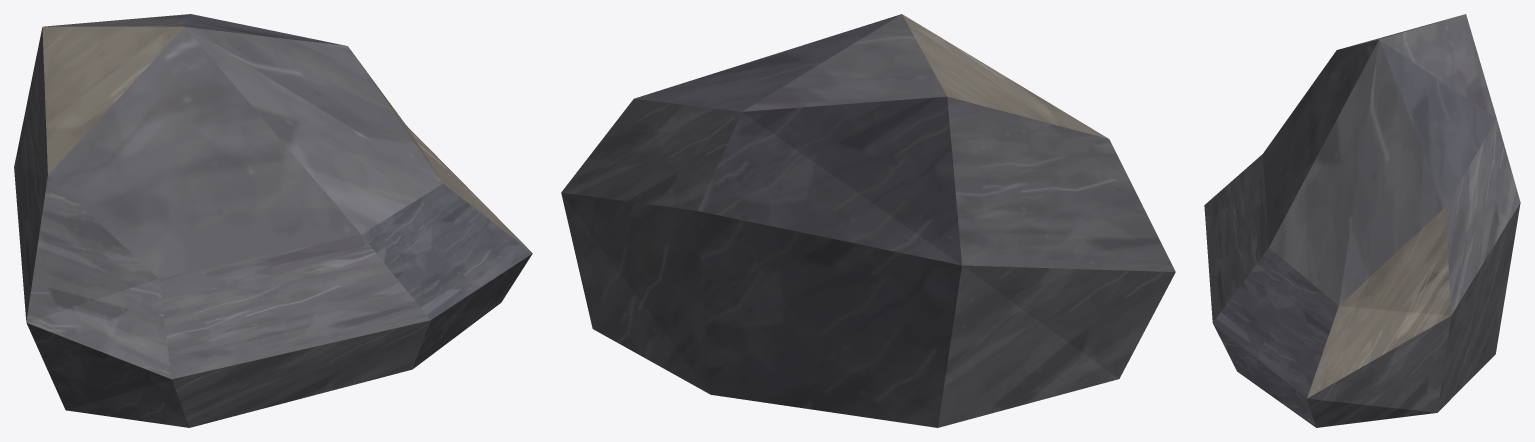
Rendered from debris_rock_wedge.glb.
3 renders of one model, left to right at view 1: azimuth 30°, elevation 25°; view 2: azimuth 150°, elevation 25°; view 3: azimuth 270°, elevation 25°, orthographic. The views are drawn at different scales.
Visible parts, largest first — view 1: Rock Wedge; view 2: Rock Wedge; view 3: Rock Wedge.
Boxes of the visible parts, <box> form: Rock Wedge: <box>14,14,532,427</box>; Rock Wedge: <box>561,14,1175,427</box>; Rock Wedge: <box>1204,14,1520,427</box>.
Bounding box in the file's own units: 0.181 × 0.108 × 0.114.
Materials: 1 (1 with a texture image).
